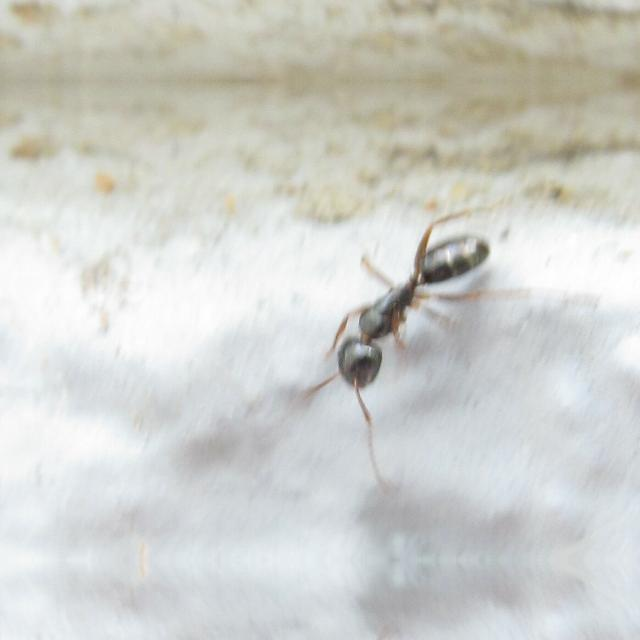Camponotus: (286, 208, 516, 418)
